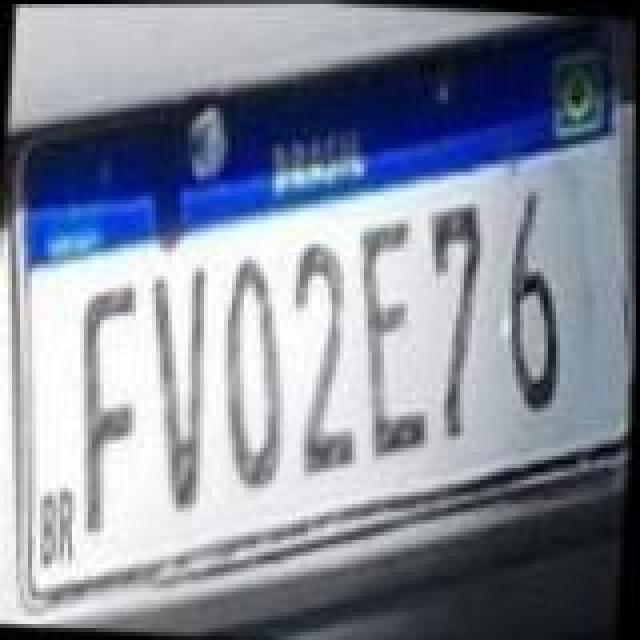2: (274, 240, 374, 484)
6: (496, 192, 576, 416)
7: (412, 200, 492, 440)
E: (344, 210, 448, 462)
F: (68, 280, 152, 536)
O: (210, 256, 302, 496)
V: (136, 264, 220, 512)
